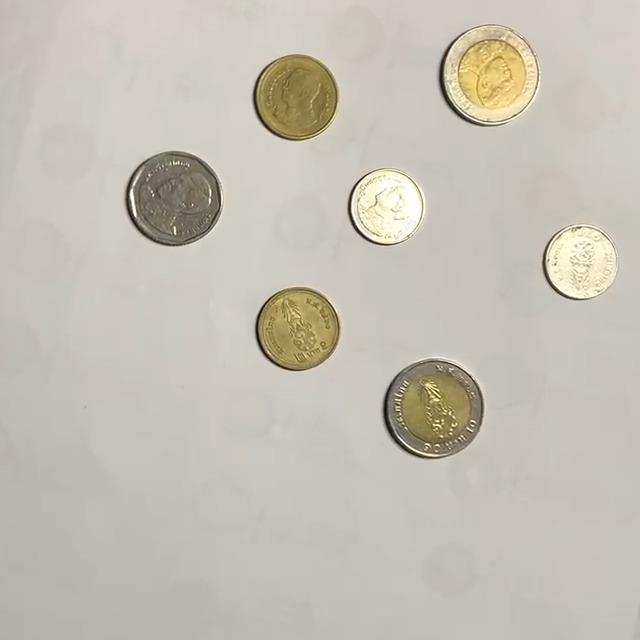1-baht: (543, 223, 623, 300), (350, 168, 427, 246)
10-baht: (441, 24, 541, 125), (385, 359, 486, 457)
2-baht: (255, 55, 340, 140), (257, 288, 342, 371)
5-baht: (126, 151, 225, 246)
